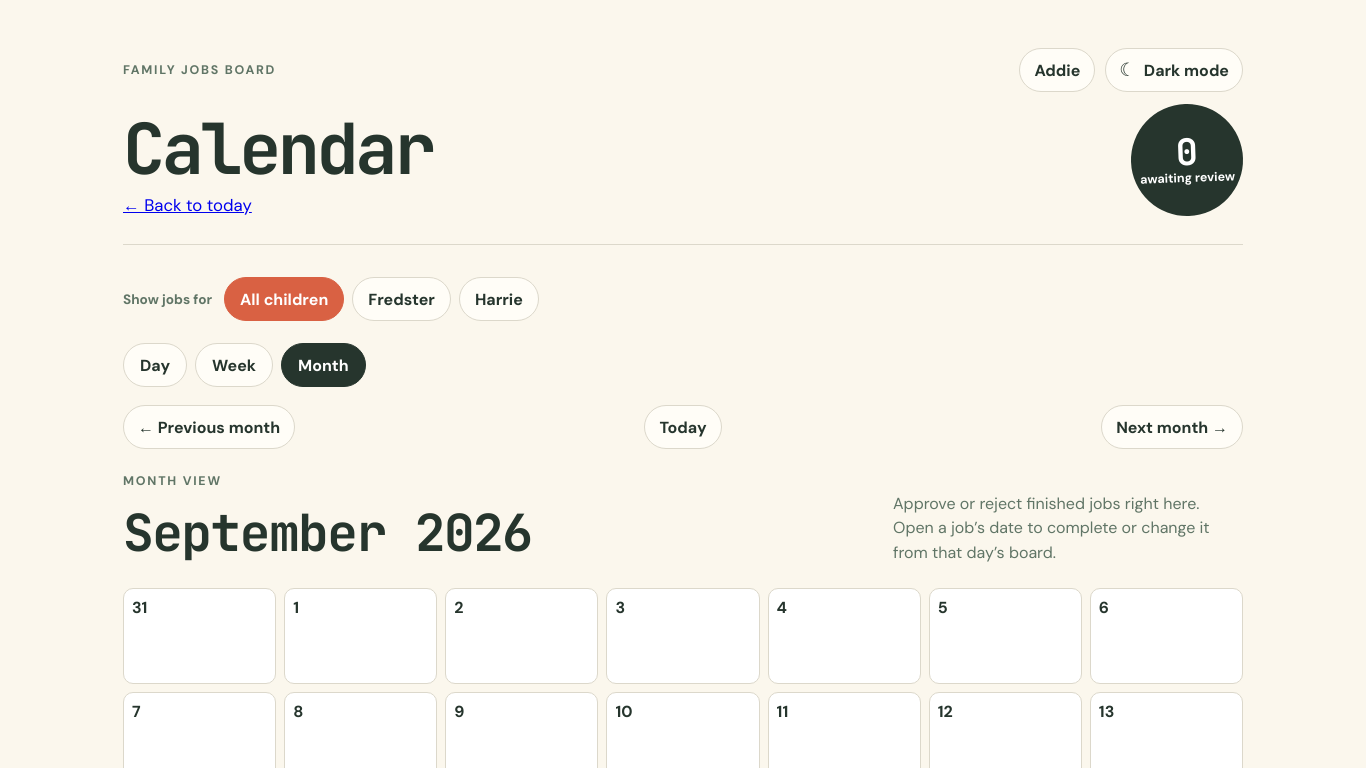
Test case: Approvals panel › closes with Escape and returns focus to the badge
Click the button with aria-label "0 jobs awaiting review" at point(1187, 160), box [1129,102,1245,218]
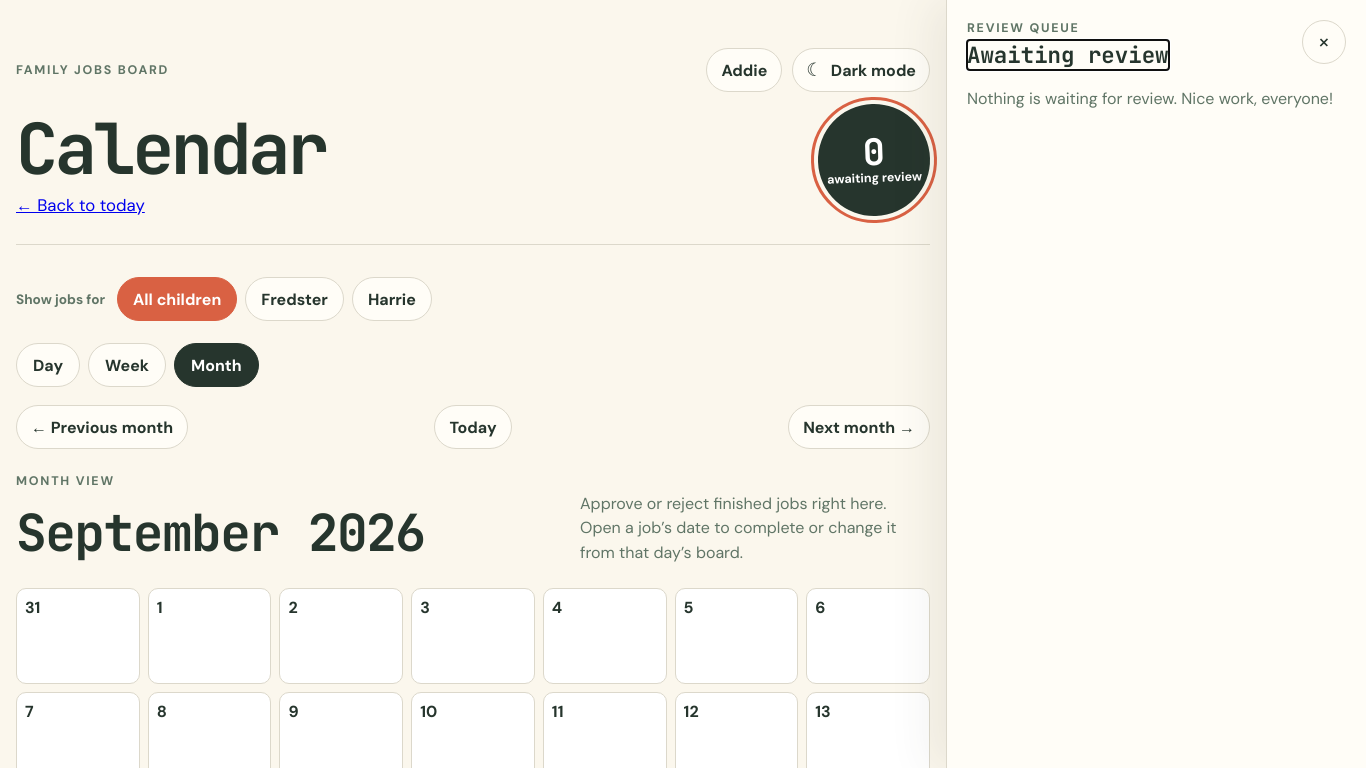
Now the button with aria-label "0 jobs awaiting review" is expanded, box [816,102,932,218]
Now the text "Nothing is waiting for review. Nice work, everyone!" is shown, box [967,88,1346,109]
Press Escape
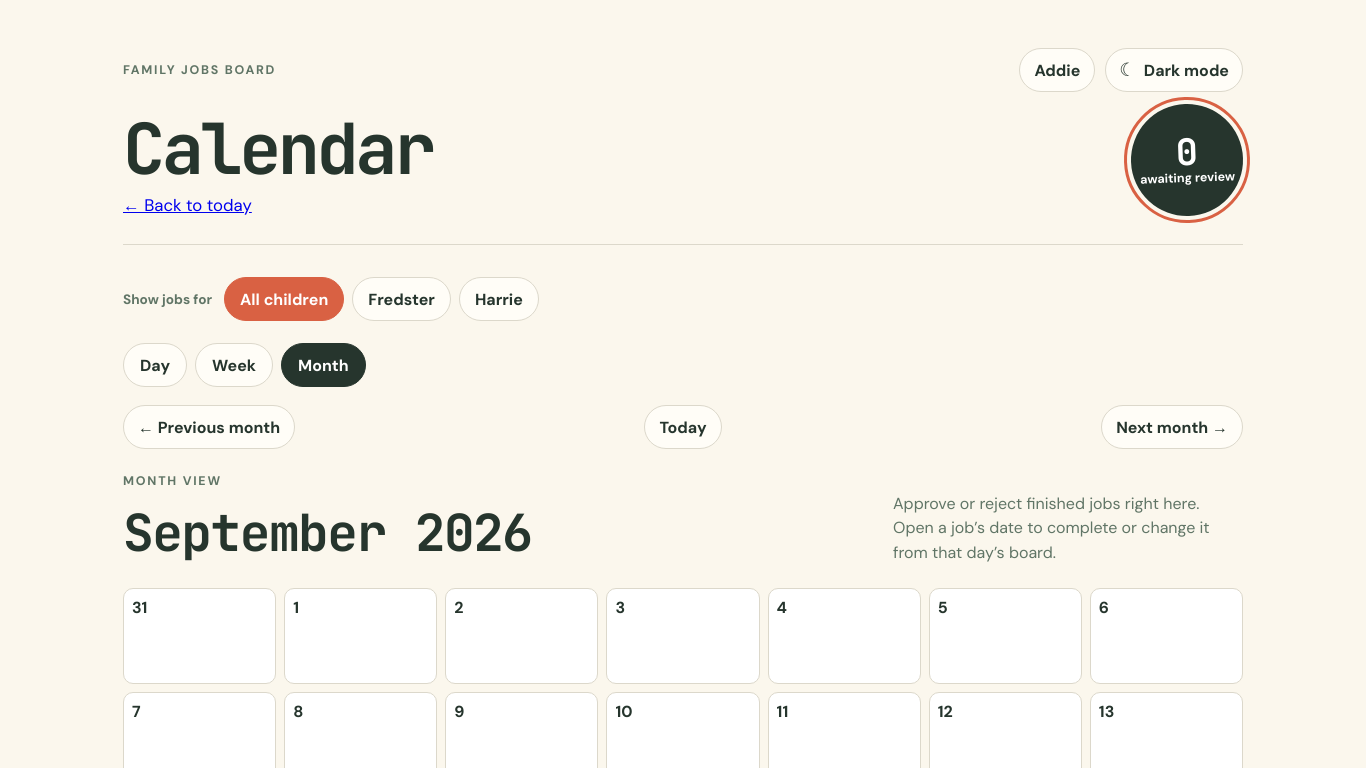
Now the button with aria-label "0 jobs awaiting review" is collapsed, box [1129,102,1245,218]
